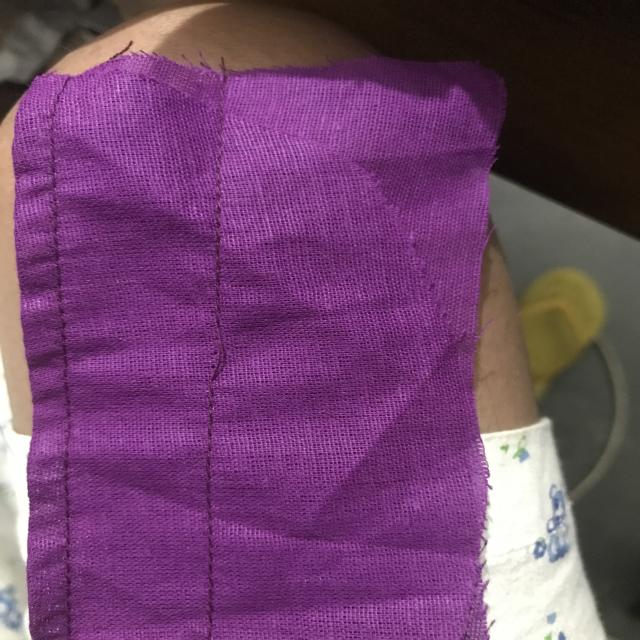good: (188, 446, 229, 546)
skip: (194, 299, 241, 407)
